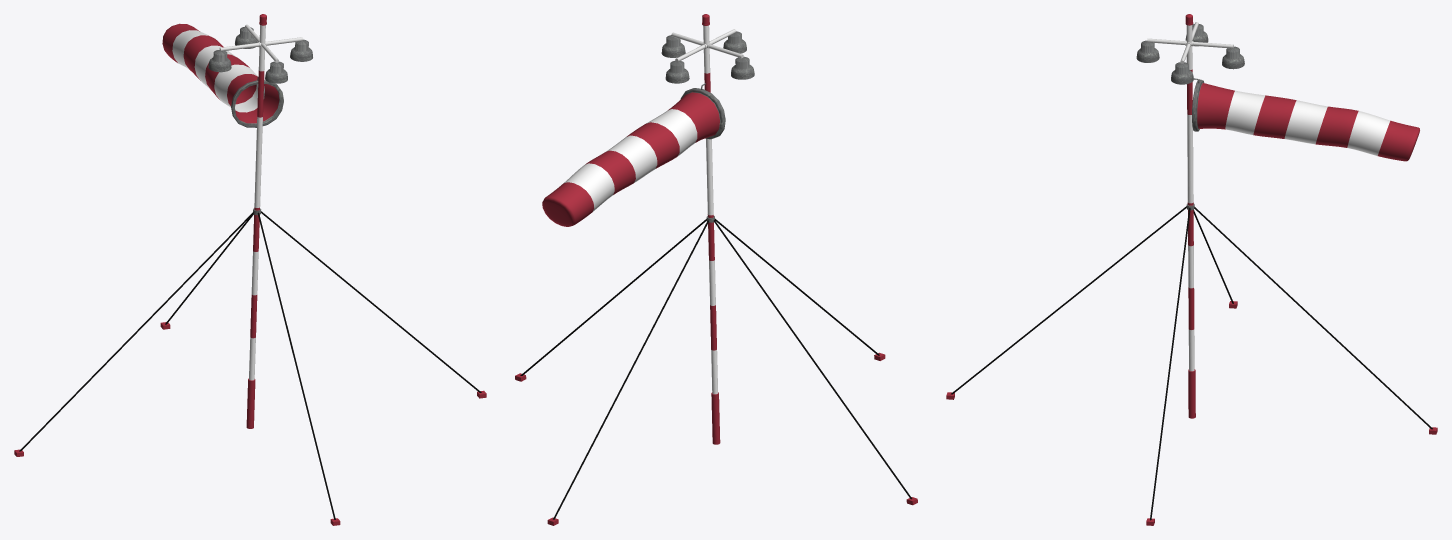
Rendered from cataviento.fbx.
3 views of the same model, side by side, from view 1: azimuth 30°, elevation 25°; view 2: azimuth 150°, elevation 25°; view 3: azimuth 270°, elevation 25° (orthographic). The views are drawn at different scales.
Visible parts, largest first — view 1: Cube.004, Cylinder, Cylinder.003, Cylinder.005, Cylinder.002; view 2: Cube.004, Cylinder, Cylinder.004, Cylinder.003, Cylinder.002, Cylinder.005; view 3: Cube.004, Cylinder, Cylinder.002, Cylinder.004, Cylinder.005.
Boxes of the visible parts, x1,y1,x2,y2 form: Cube.004: (162,23,283,127); Cylinder: (246,14,266,428); Cylinder.003: (19,212,253,451); Cylinder.005: (257,212,335,519); Cylinder.002: (261,211,481,392); Cube.004: (542,88,725,226); Cylinder: (702,14,720,444); Cylinder.004: (553,220,708,519); Cylinder.003: (713,219,912,499); Cylinder.002: (520,219,706,375); Cylinder.005: (715,218,879,355); Cube.004: (1192,79,1419,161); Cylinder: (1185,14,1195,418); Cylinder.002: (1150,208,1190,520); Cylinder.004: (1194,207,1432,429); Cylinder.005: (951,206,1186,394).
Bounding box in the file's own units: 67 × 62.21 × 67.
Materials: 4 (1 with a texture image).
